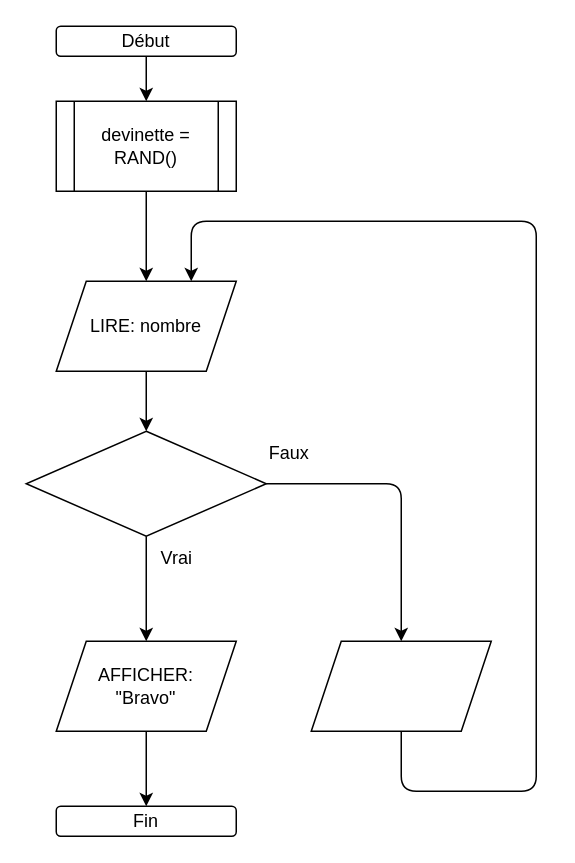
This 575x863 diagram has some shape labels left out. The shapes that lost their labels are listed below. From the top down, each one's centre as x and y in pixels, then its label:
(x=145, y=483): nombre == devinette ?
(x=400, y=685): AFFICHER: "Essais encore"
